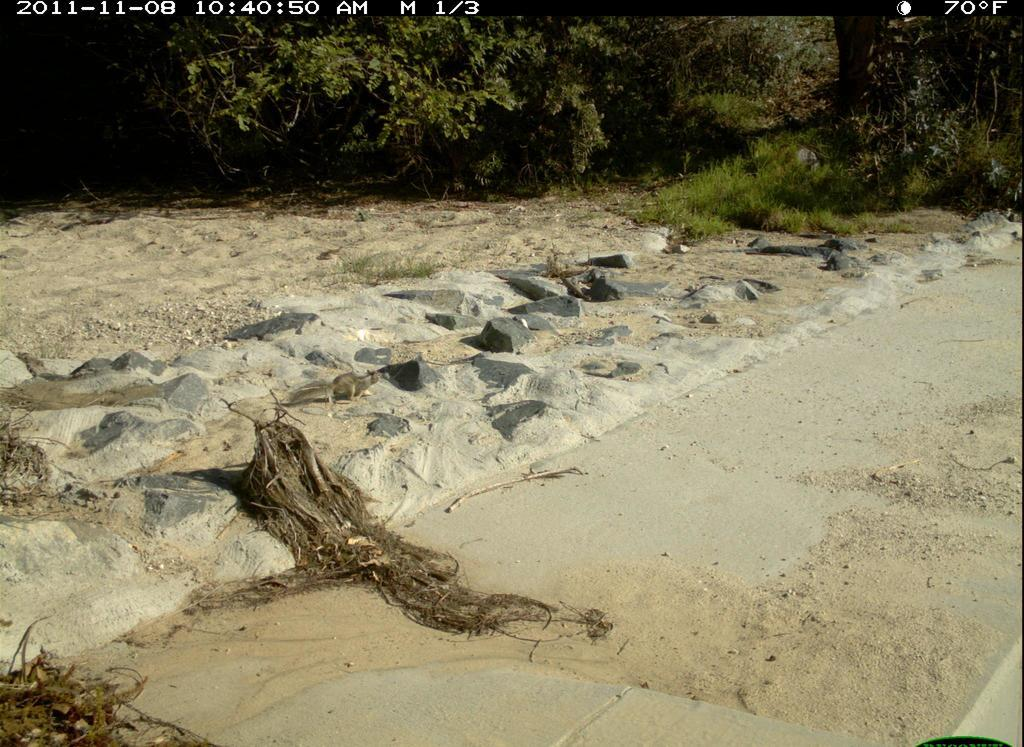squirrel: (269, 360, 404, 441)
